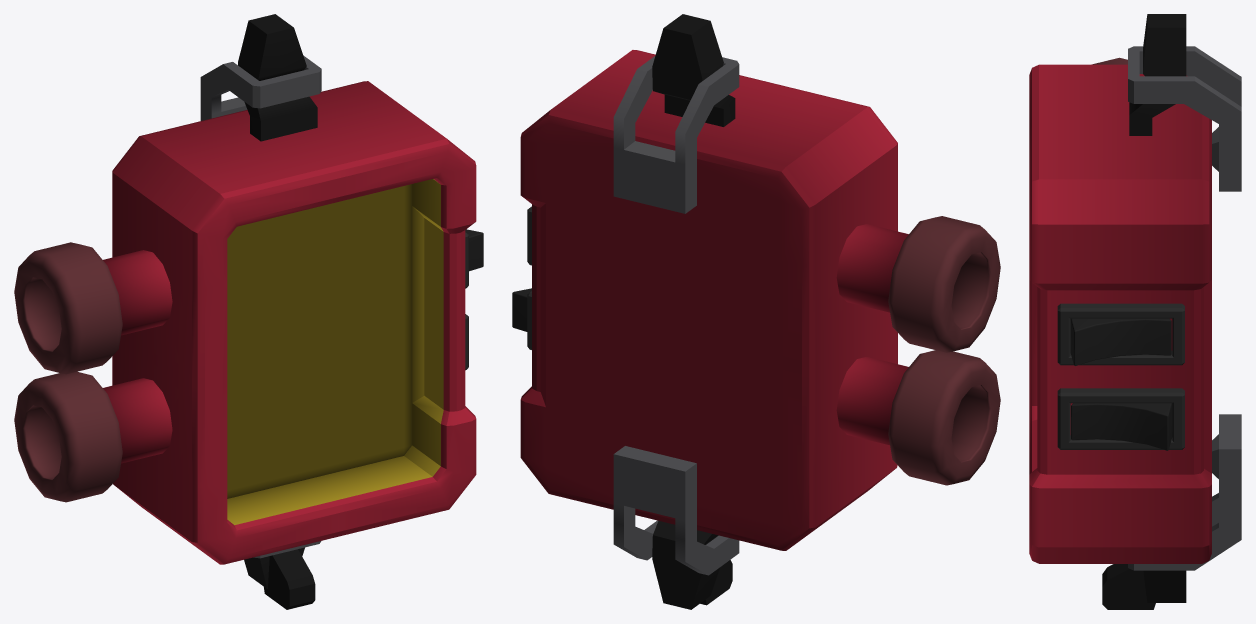
The model's file is Procesor_Cooling_lvl_10_V03.fbx.
The picture shows the model from 3 angles, left to right: view 1: azimuth 30°, elevation 25°; view 2: azimuth 150°, elevation 25°; view 3: azimuth 270°, elevation 25°; orthographic projection. The views are drawn at different scales.
Parts seen in each view (by area): view 1: Procesor_Cooling_lvl_10; view 2: Procesor_Cooling_lvl_10; view 3: Procesor_Cooling_lvl_10.
Part boxes in pixels (x1,y1,x2,y2): Procesor_Cooling_lvl_10: (14, 14, 483, 609); Procesor_Cooling_lvl_10: (512, 14, 1000, 609); Procesor_Cooling_lvl_10: (1029, 14, 1241, 609).
Bounding box in the file's own units: 36.59 × 46.77 × 15.47.
